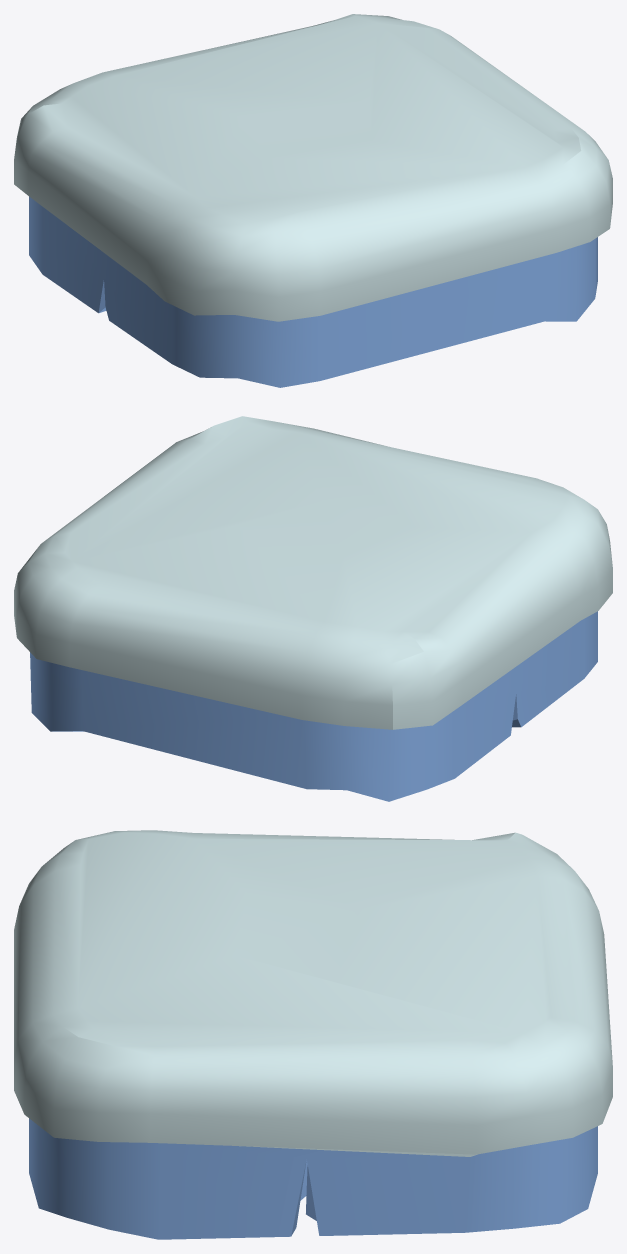
The model's file is BlockIce.fbx.
3 views of the same model, one above another, from view 1: azimuth 30°, elevation 25°; view 2: azimuth 150°, elevation 25°; view 3: azimuth 270°, elevation 25° (orthographic). The views are drawn at different scales.
Parts seen in each view (by area): view 1: Куб; view 2: Куб; view 3: Куб.
Boxes of the visible parts, x1=… form: Куб: x1=14, y1=14, x2=612, y2=387; Куб: x1=14, y1=416, x2=612, y2=801; Куб: x1=14, y1=830, x2=612, y2=1239.
Size of the model in its own units: 6 by 2.12 by 6.
